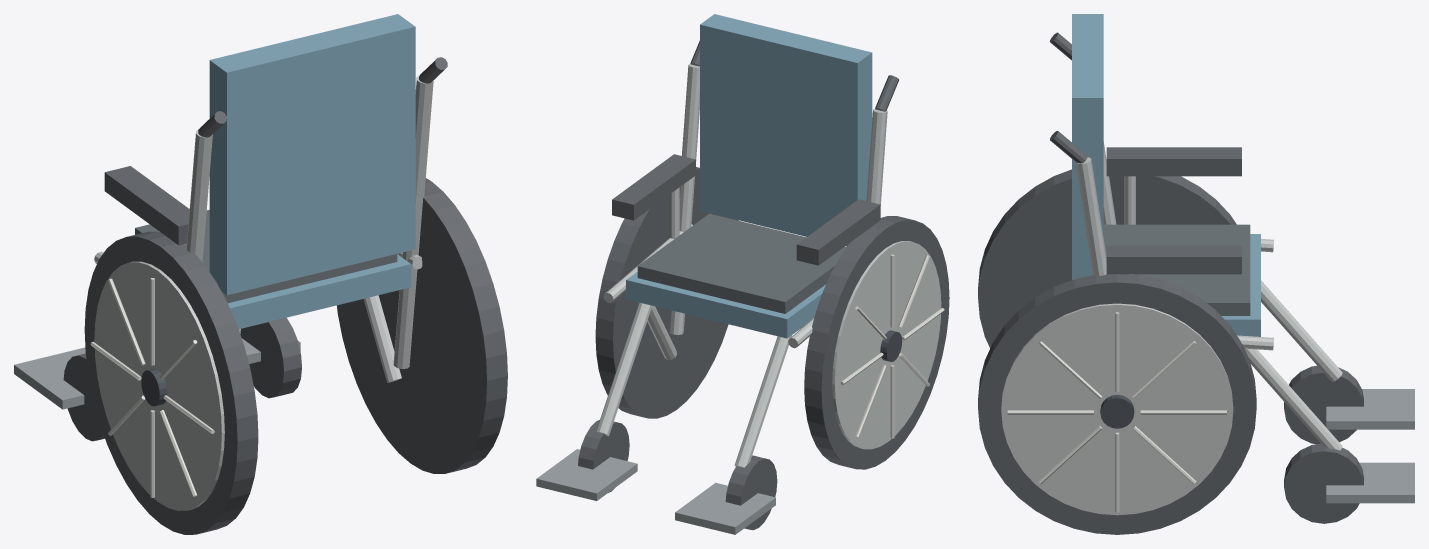
The model's file is wheelchair.fbx.
3 views of the same model, side by side, from view 1: azimuth 30°, elevation 25°; view 2: azimuth 150°, elevation 25°; view 3: azimuth 270°, elevation 25° (orthographic). The views are drawn at different scales.
Parts seen in each view (by area): view 1: wheelchair; view 2: wheelchair; view 3: wheelchair.
Part boxes in pixels (left/top/right/bottom): wheelchair: left=14, top=14, right=507, bottom=534; wheelchair: left=536, top=14, right=949, bottom=534; wheelchair: left=978, top=14, right=1414, bottom=534.
Bounding box in the file's own units: 0.7265 × 1.11 × 1.04.
